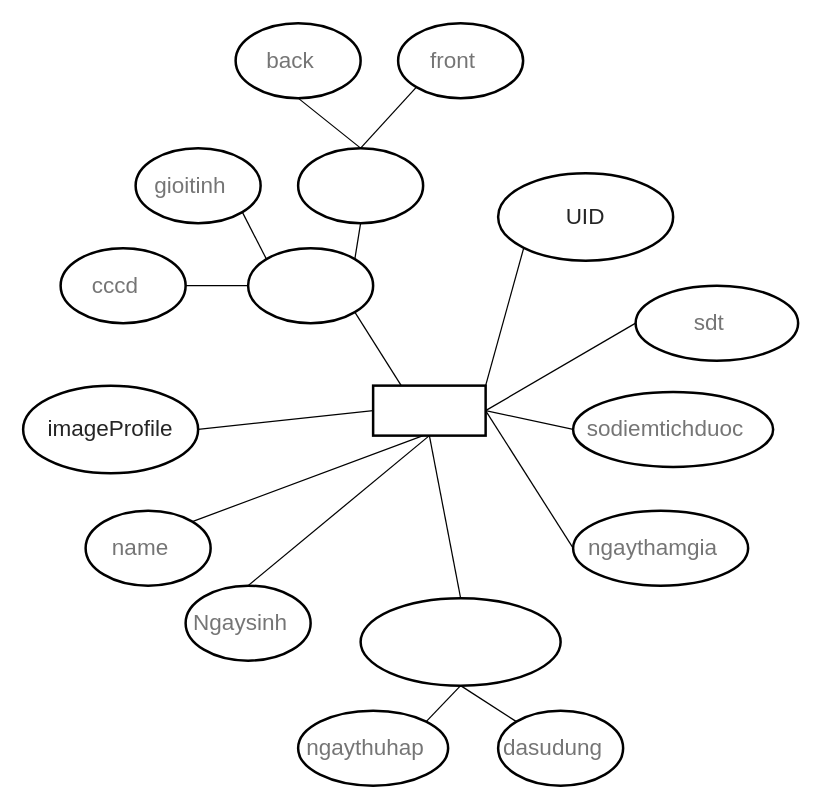
The diagram is 820 pixels wide and 808 high, and some of its shapes have lost their labels. Here are the shapes that lost their labels. From the top down, the box of each, then its label:
(296, 146, 424, 224): image
(246, 246, 374, 324): kycInfo
(371, 384, 486, 436): User
(359, 596, 561, 686): magiamgiacuatoi
